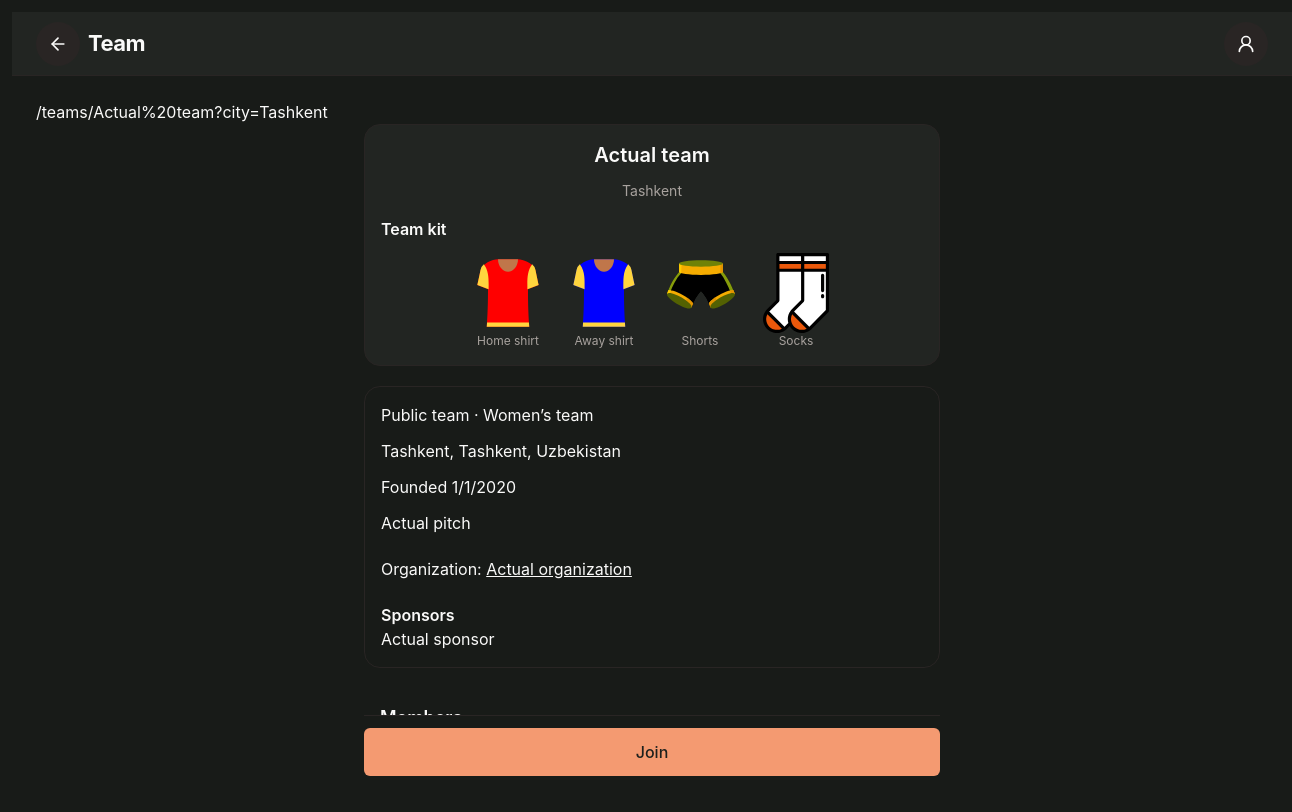
it: returns a direct team detail to the team directory with its query
expect the heading "Actual team" is shown: met, box [594, 143, 710, 167]
Step 1. Click the button named "Back" → point(58, 44), box [36, 22, 80, 66]
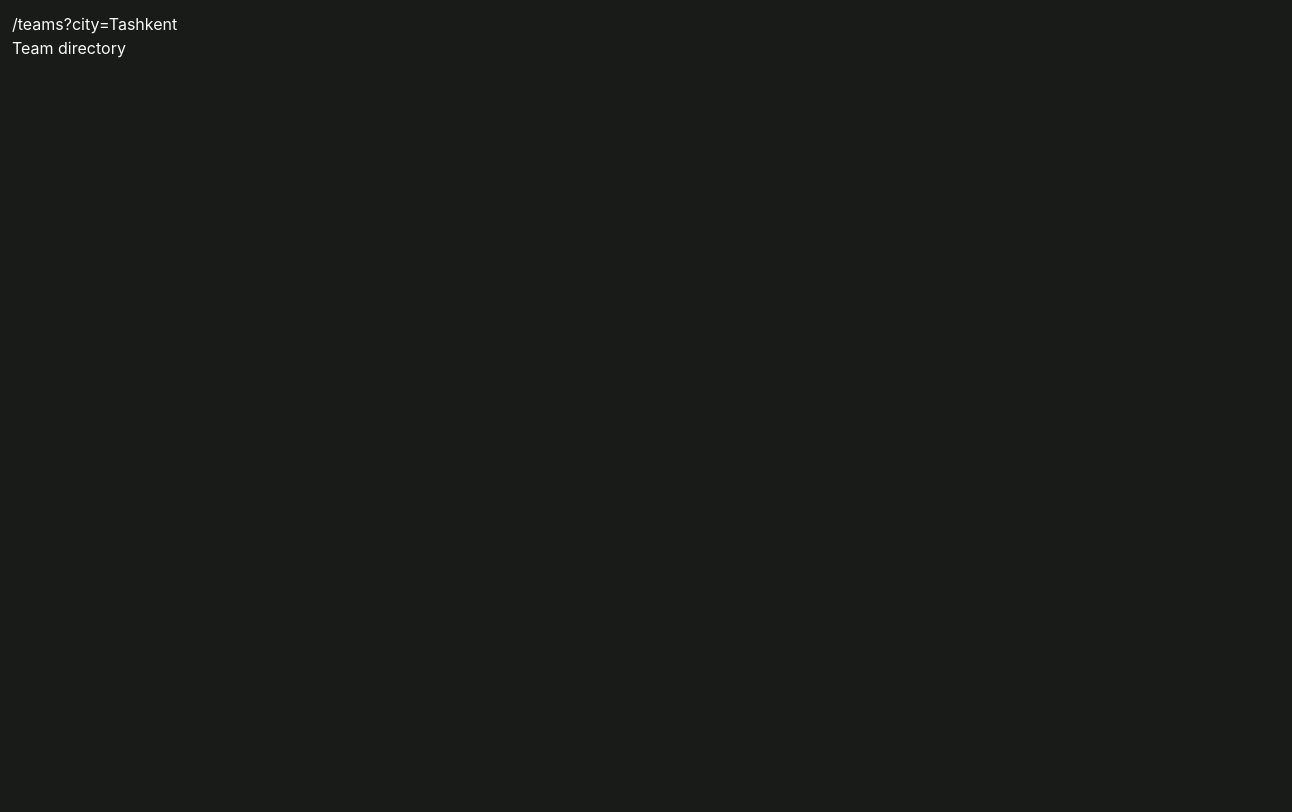
expect the text "/teams?city=Tashkent" is shown: met, box [12, 14, 177, 34]
